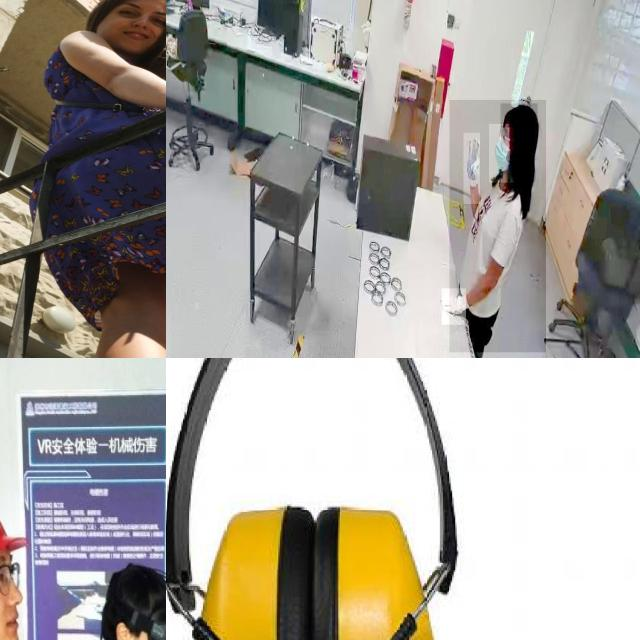Ear-protection: (166, 358, 474, 640)
No_Ear-Protection: (116, 622, 129, 640)
face_mask: (489, 124, 515, 182)
face_nomask: (0, 583, 22, 640)
hand_glove: (464, 133, 480, 204), (442, 288, 466, 326)
head_nohelmet: (500, 104, 538, 128)
person: (449, 100, 546, 353)
